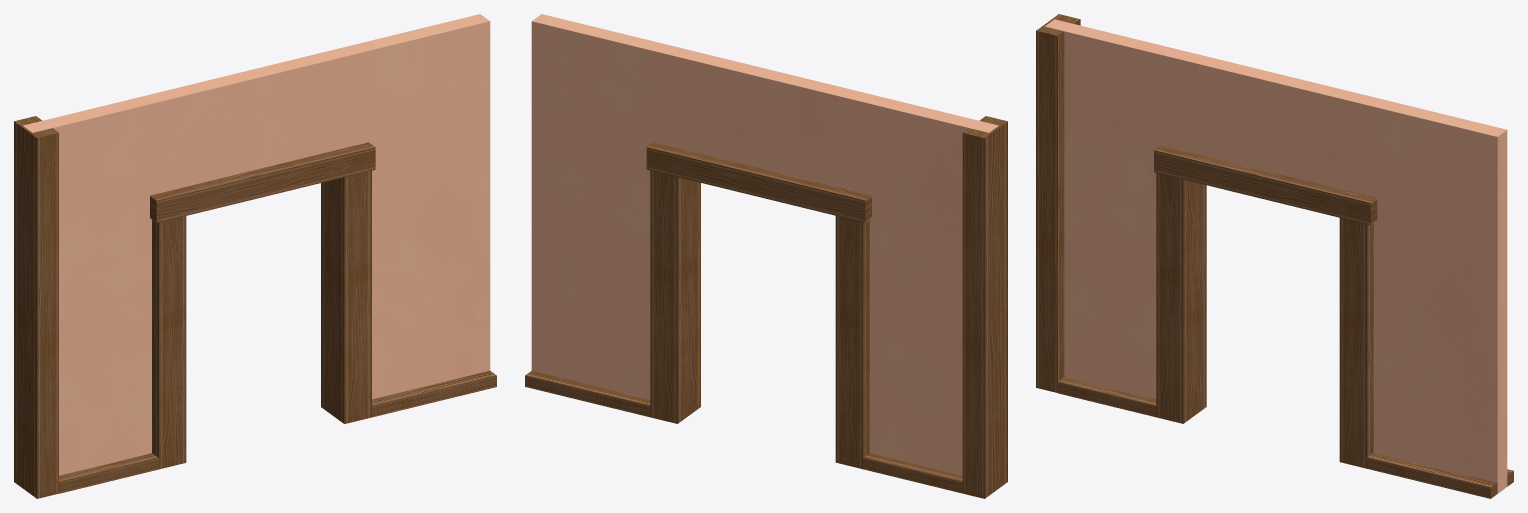
File: SM_Door_Wall_01_wrose.glb
3 renders of one model, left to right at view 1: azimuth 30°, elevation 25°; view 2: azimuth 150°, elevation 25°; view 3: azimuth 330°, elevation 25°, orthographic.
Visible parts, largest first — view 1: SM_Door_Wall_01; view 2: SM_Door_Wall_01; view 3: SM_Door_Wall_01.
Boxes of the visible parts, x1,y1,x2,y2 form: SM_Door_Wall_01: (14,14,496,498); SM_Door_Wall_01: (525,14,1007,498); SM_Door_Wall_01: (1036,14,1513,498).
Bounding box in the file's own units: 4 × 3 × 0.3524.
Materials: 2 (2 with a texture image).
